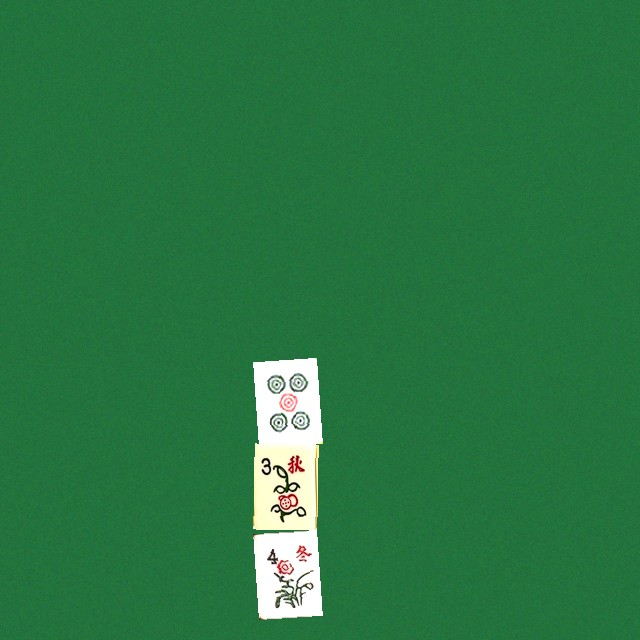tile: (253, 357, 317, 443), (253, 443, 317, 529), (253, 529, 317, 615)
